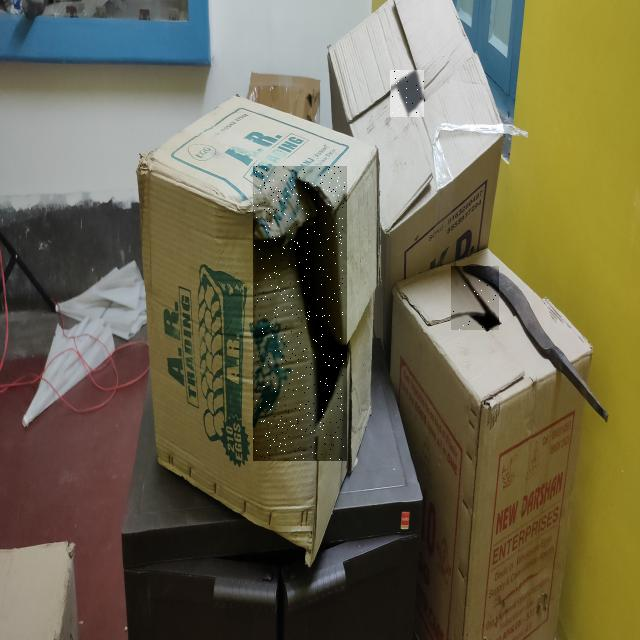leakage: (254, 167, 345, 361), (316, 355, 345, 460), (452, 267, 499, 330), (392, 70, 424, 115)
